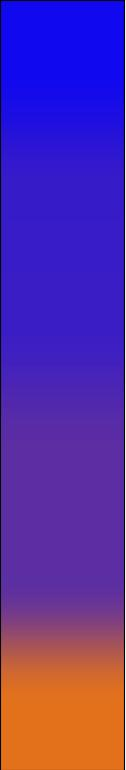Thermal Runaway: (6, 708, 120, 769)
critical: (8, 556, 119, 649), (6, 655, 119, 702)
safe: (6, 5, 121, 425), (8, 430, 119, 551)
